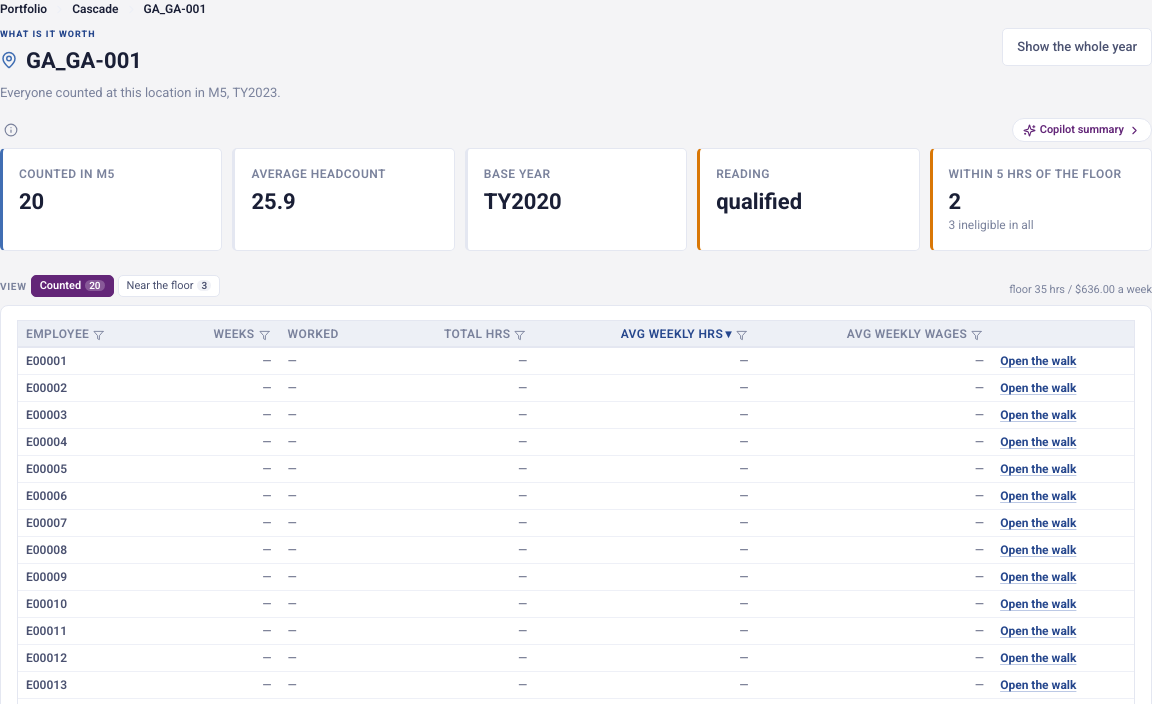
the cohort the band announces is actually on the page › shows how far short each one is, from the rule pack floor
This screenshot has width=1152, height=704.
Click the tab "Near the floor3" at {"x": 169, "y": 286}, box x1=118 y1=275 x2=220 y2=297
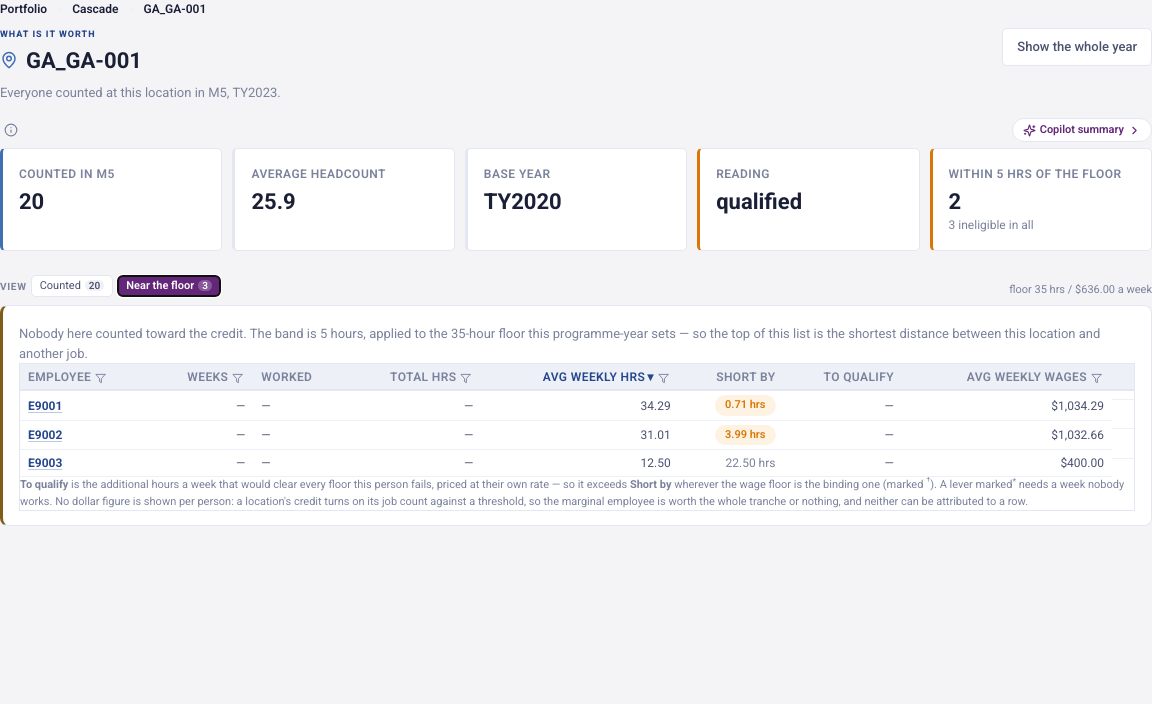
Check: the text "0.71 hrs" is shown, box x1=715 y1=395 x2=776 y2=416
Check: the text "3.99 hrs" is shown, box x1=715 y1=425 x2=776 y2=445
